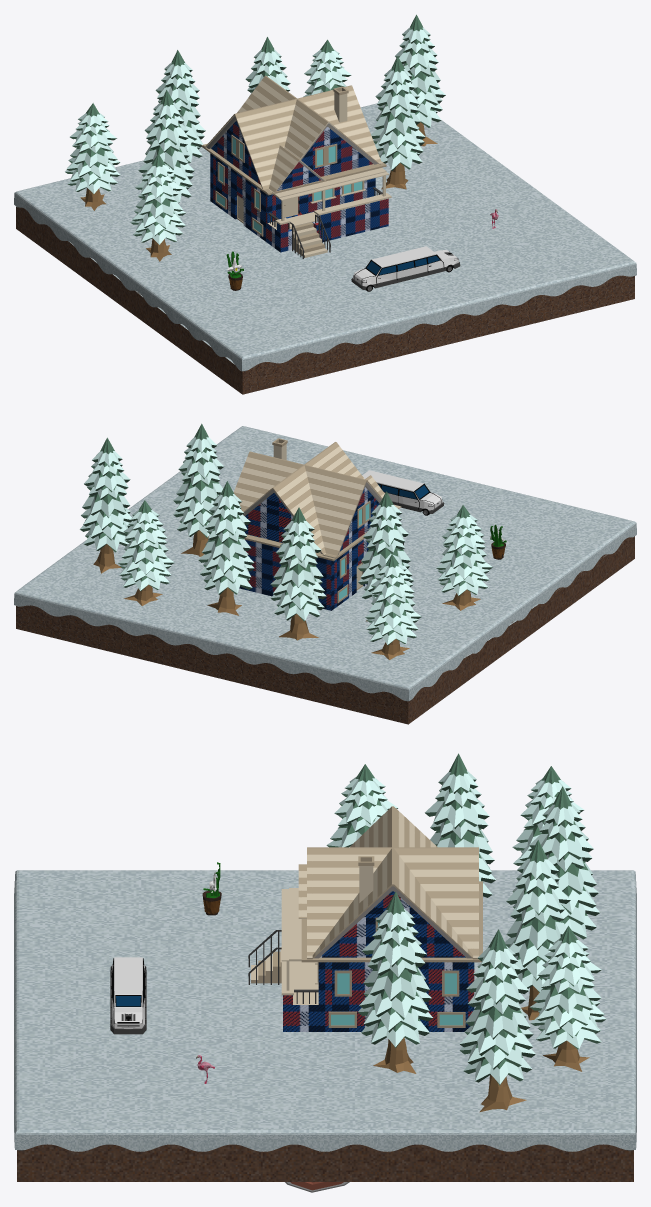
3 views of the same model, one above another, from view 1: azimuth 30°, elevation 25°; view 2: azimuth 150°, elevation 25°; view 3: azimuth 270°, elevation 25° (orthographic). The views are drawn at different scales.
Visible parts, largest first — view 1: Cube.003, Cube.171, VEHICLES_LIMOUSINE; view 2: Cube.003, Cube.171, VEHICLES_LIMOUSINE; view 3: Cube.003, Cube.171, VEHICLES_LIMOUSINE, OBJRANDOM_MONJA BLANCA.
Boxes of the visible parts, x1,y1,x2,y2 form: Cube.003: (14, 14, 636, 394); Cube.171: (201, 75, 391, 258); VEHICLES_LIMOUSINE: (351, 246, 460, 291); Cube.003: (14, 423, 636, 724); Cube.171: (233, 438, 403, 610); VEHICLES_LIMOUSINE: (362, 470, 444, 515); Cube.003: (14, 753, 636, 1181); Cube.171: (248, 806, 482, 1031); VEHICLES_LIMOUSINE: (110, 957, 146, 1034); OBJRANDOM_MONJA BLANCA: (202, 862, 221, 915).
Bounding box in the file's own units: 4040 × 2408 × 4040.
37 materials, 4 textured.
